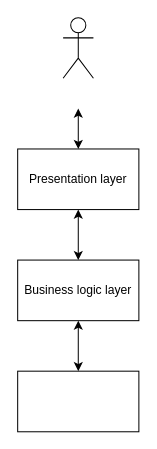
The diagram is 157 pixels wide and 449 high, and some of its shapes have lost their labels. Here are the shapes that lost their labels. From the top down, the centre of each, then its label:
At pixel 77 47: "User".
At pixel 78 401: "Persistence layer".
